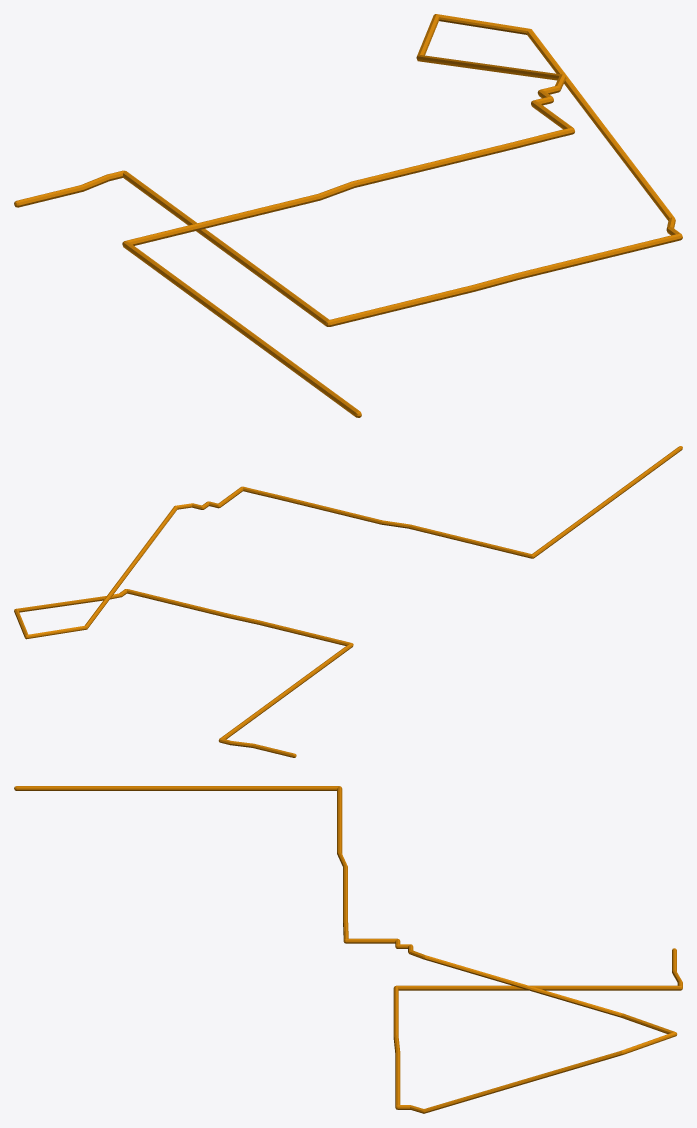
3 views of the same model, one above another, from view 1: azimuth 30°, elevation 25°; view 2: azimuth 150°, elevation 25°; view 3: azimuth 270°, elevation 25° (orthographic). The views are drawn at different scales.
Bounding box in the file's own units: 1905 × 520 × 2589.
